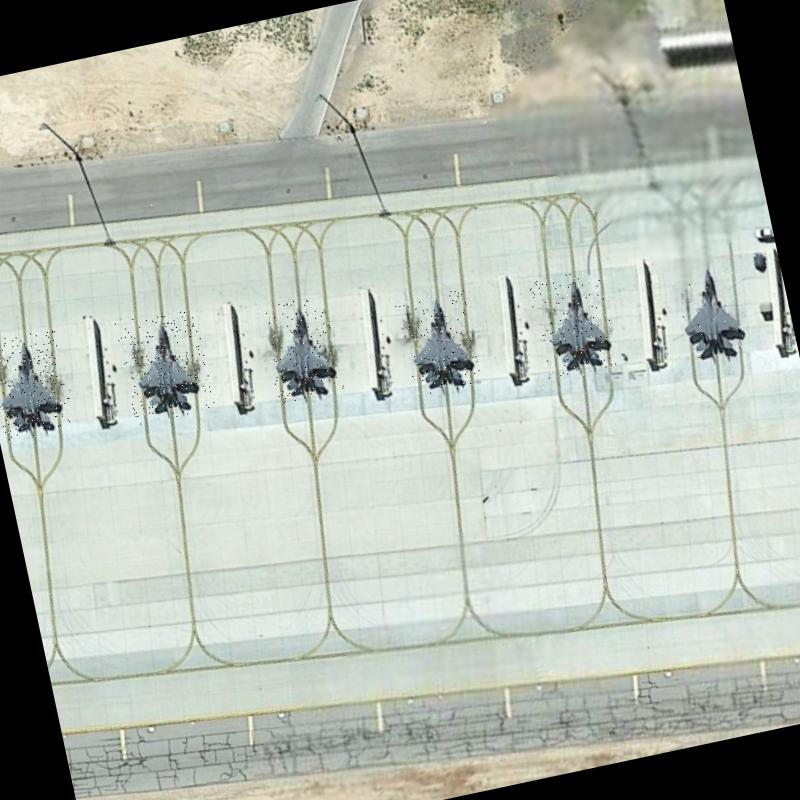A13: (114, 304, 215, 426), (527, 267, 620, 383), (668, 256, 756, 370), (394, 288, 484, 398), (258, 294, 345, 406), (0, 326, 75, 443)
